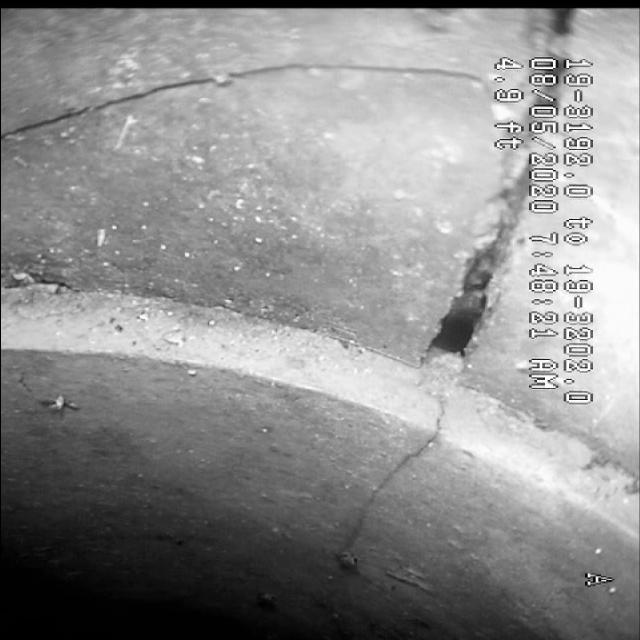Fracture: (418, 180, 554, 360)
